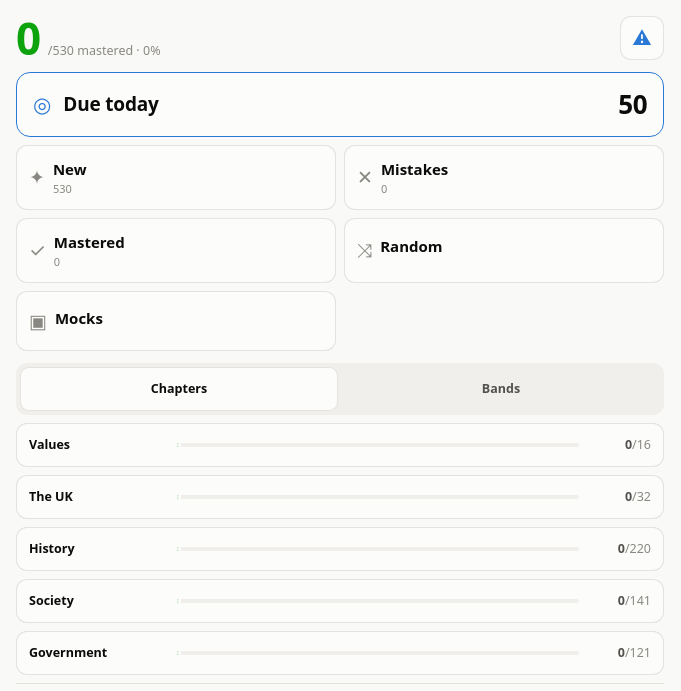
the card carries nothing it does not need › shows no chapter or tag chip on the card
Expected: the button "◎ Due today 50" is shown, 16,72 -> 664,137
Click the button "Values 0/16".
click(340, 445)  # box 16,423 -> 664,467
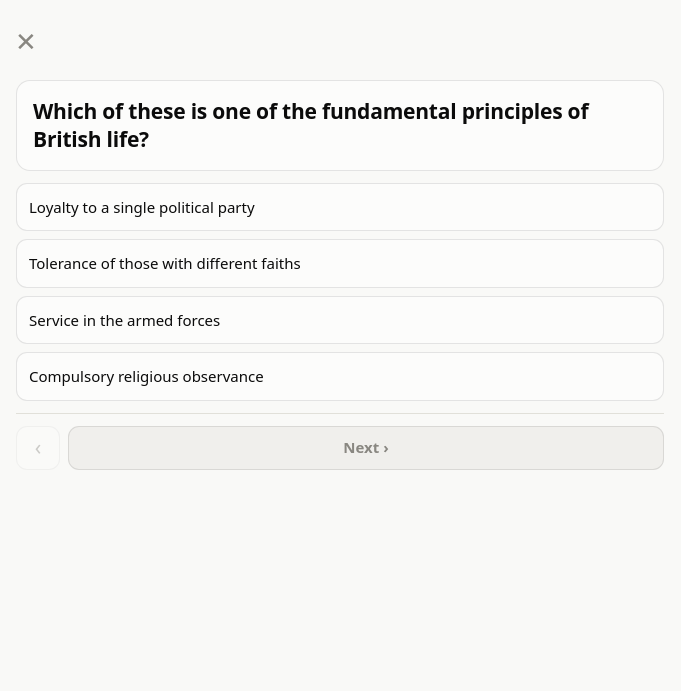
Now the button "Values" is gone
